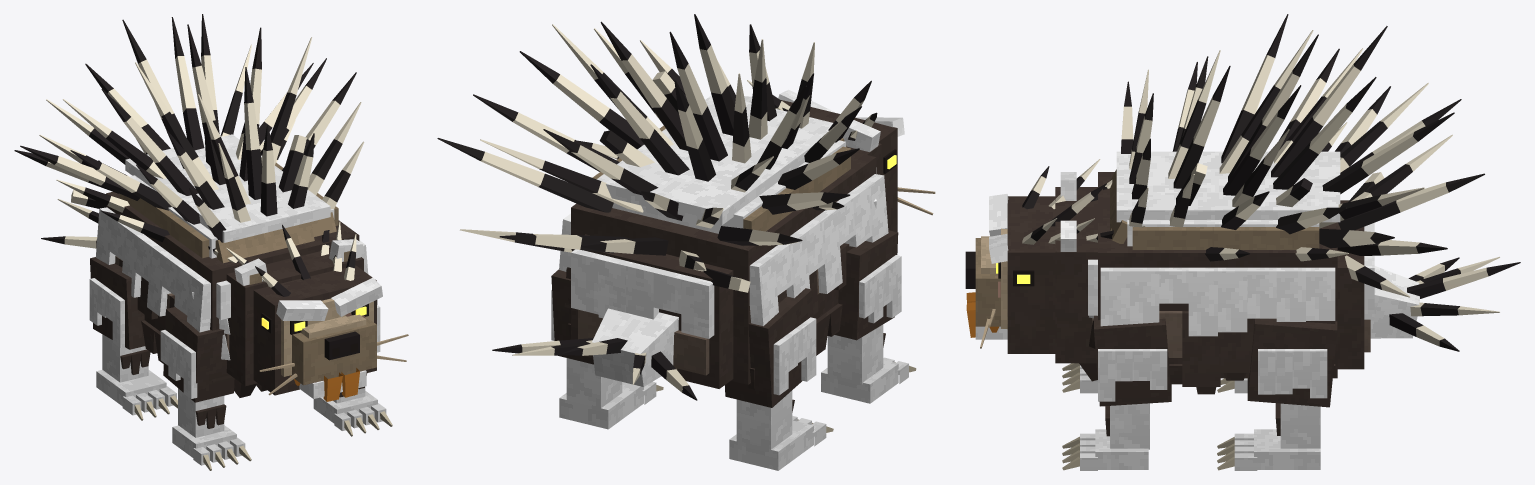
The model's file is fmob_quill.glb.
The picture shows the model from 3 angles, left to right: view 1: azimuth 30°, elevation 25°; view 2: azimuth 150°, elevation 25°; view 3: azimuth 270°, elevation 25°; orthographic projection. The views are drawn at different scales.
Parts seen in each view (by area): view 1: sway_quills, head, fmob_quill, leg_fr, leg_br, leg_fl, sway_tail, jaw; view 2: sway_quills, fmob_quill, leg_br, leg_fr, sway_tail, leg_bl, head; view 3: sway_quills, fmob_quill, head, leg_bl, leg_fl, sway_tail, leg_fr.
Boxes of the visible parts, <box> form: sway_quills: <box>14,14,364,242</box>; head: <box>192,221,408,401</box>; fmob_quill: <box>56,120,368,382</box>; leg_fr: <box>160,307,251,470</box>; leg_br: <box>89,257,177,420</box>; leg_fl: <box>313,300,392,436</box>; sway_tail: <box>41,160,100,248</box>; jaw: <box>299,370,366,398</box>; sway_quills: <box>437,14,871,292</box>; fmob_quill: <box>559,125,888,389</box>; leg_br: <box>724,288,833,470</box>; leg_fr: <box>821,230,916,403</box>; sway_tail: <box>492,308,697,400</box>; leg_bl: <box>551,269,663,429</box>; head: <box>744,80,935,232</box>; sway_quills: <box>1116,14,1484,297</box>; fmob_quill: <box>1088,122,1374,394</box>; head: <box>965,159,1145,381</box>; leg_bl: <box>1217,318,1337,470</box>; leg_fl: <box>1062,315,1171,470</box>; sway_tail: <box>1370,256,1520,351</box>; leg_fr: <box>1062,363,1097,393</box>.
Size of the model in its own units: 1.56 by 1.6 by 2.09.
17 materials, 7 textured.
